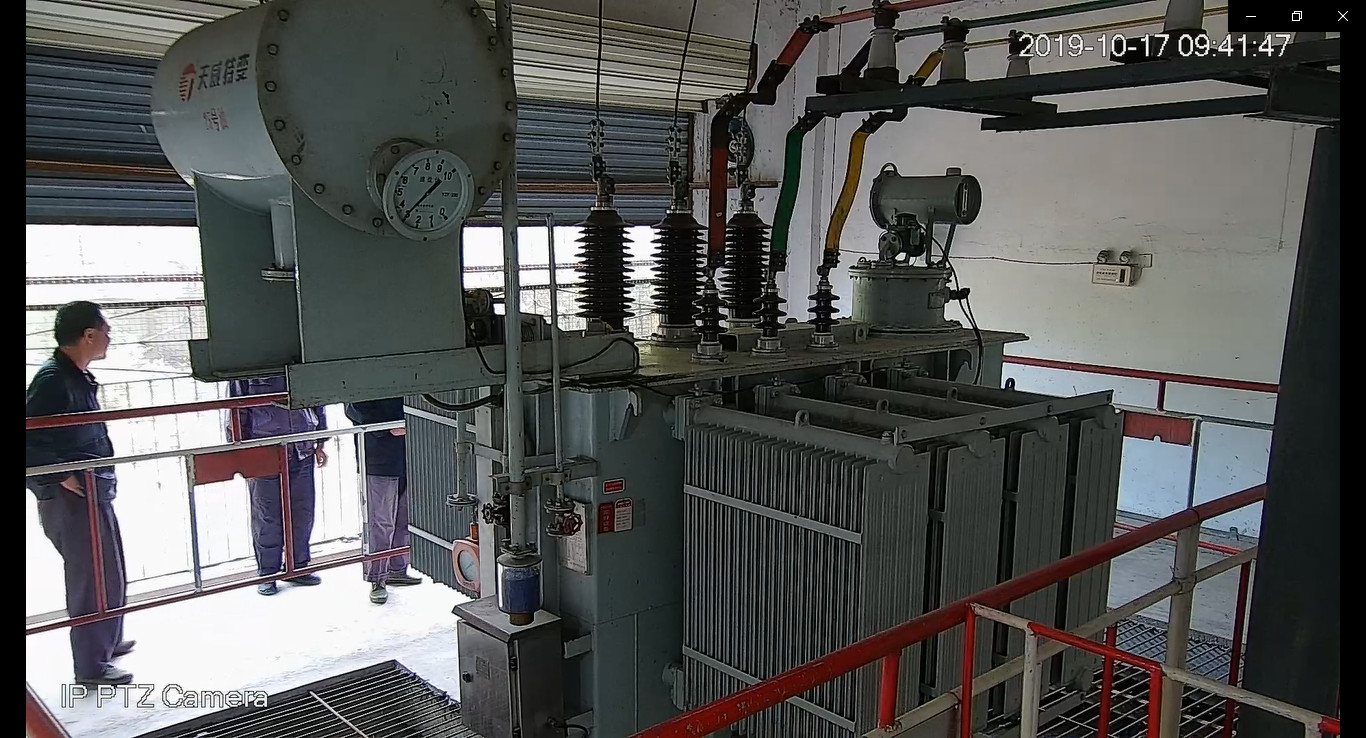helmet: (49, 293, 115, 358)
